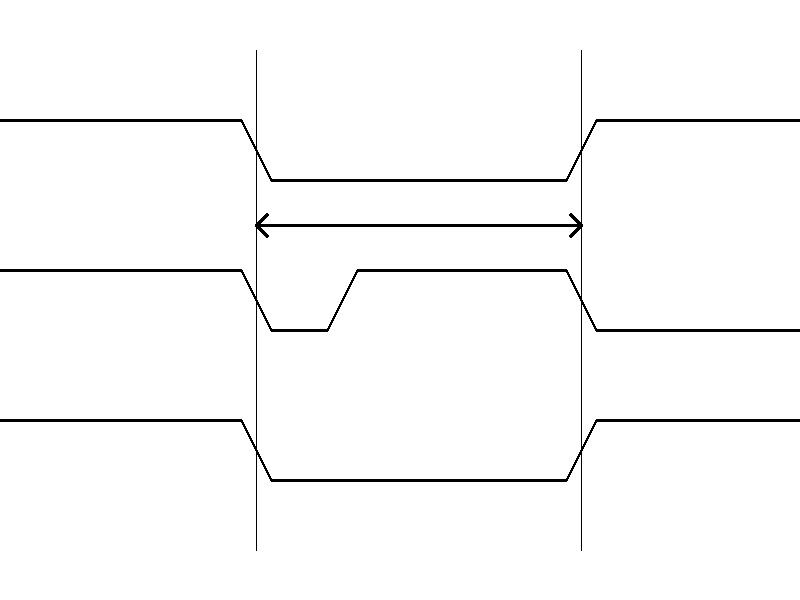double_arrow: (256, 210, 581, 240)
